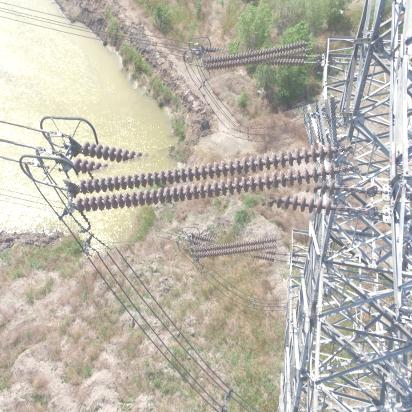insulator: (67, 117, 359, 239), (191, 226, 284, 270), (203, 37, 313, 73)
